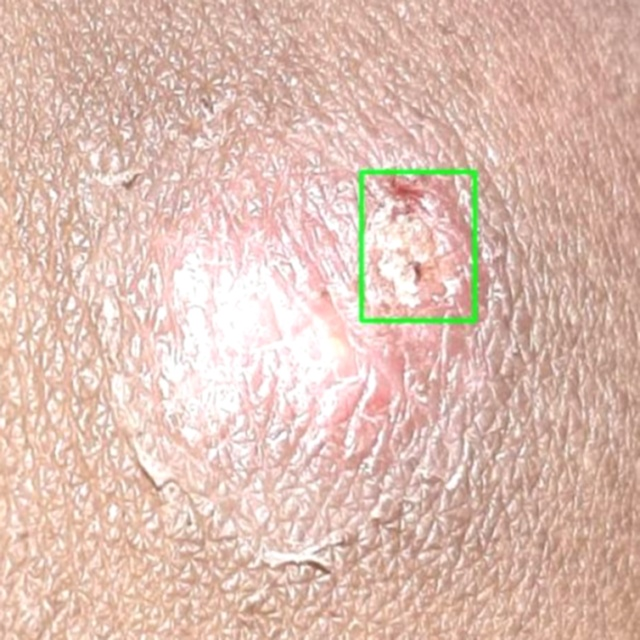Contact Dermatitis: (361, 172, 475, 320)
